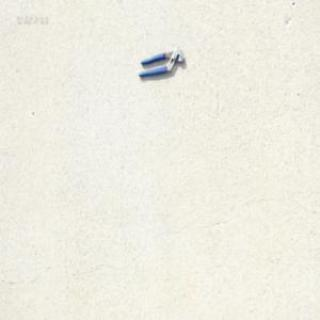Pliertrack_idkeyframe: (136, 44, 184, 77)
